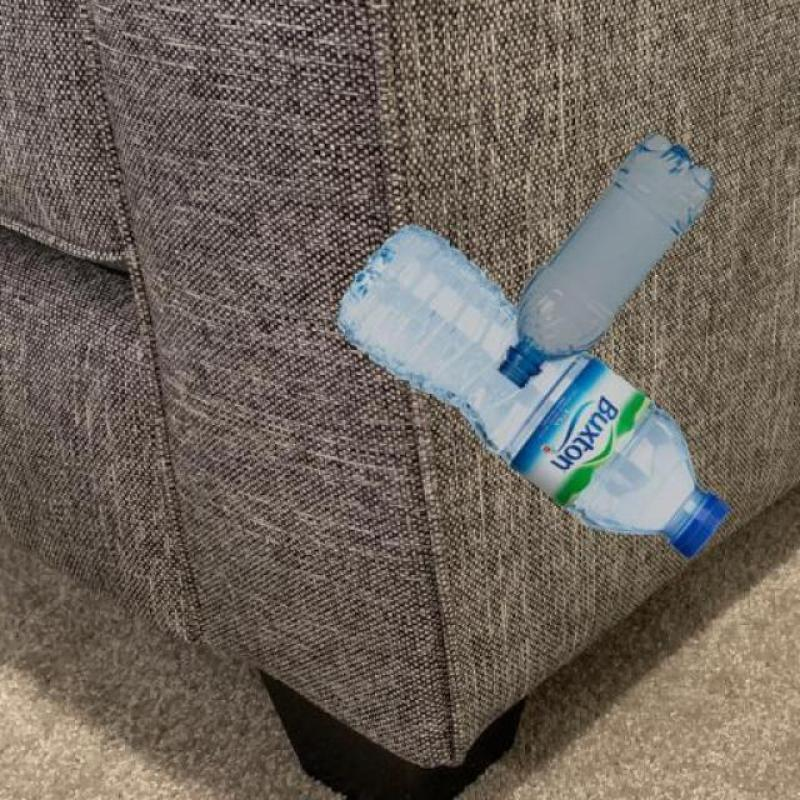botella: (336, 224, 729, 556), (497, 130, 715, 390)
